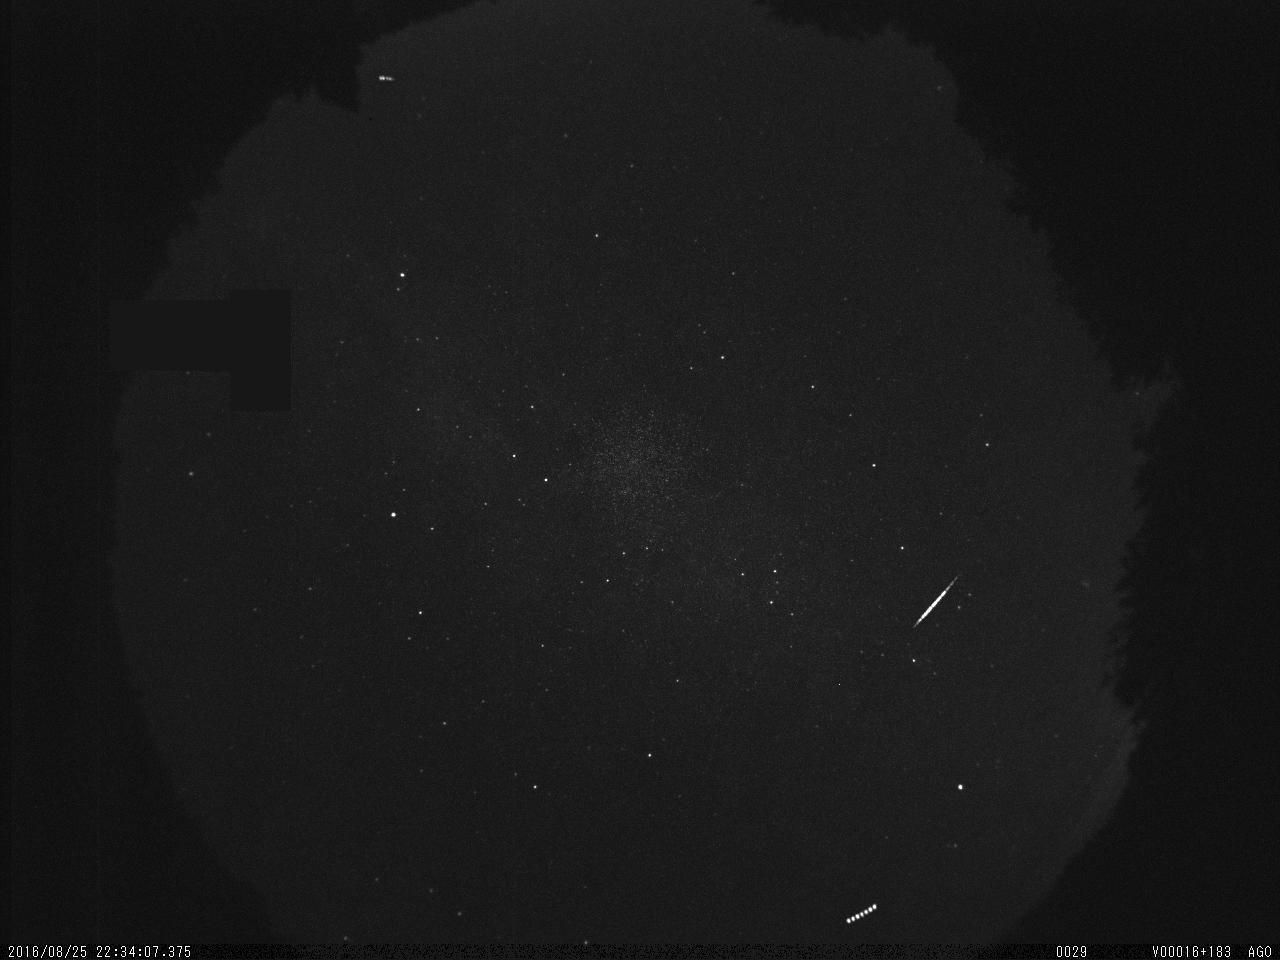meteor: (906, 562, 969, 636)
satelite: (838, 892, 884, 935)
